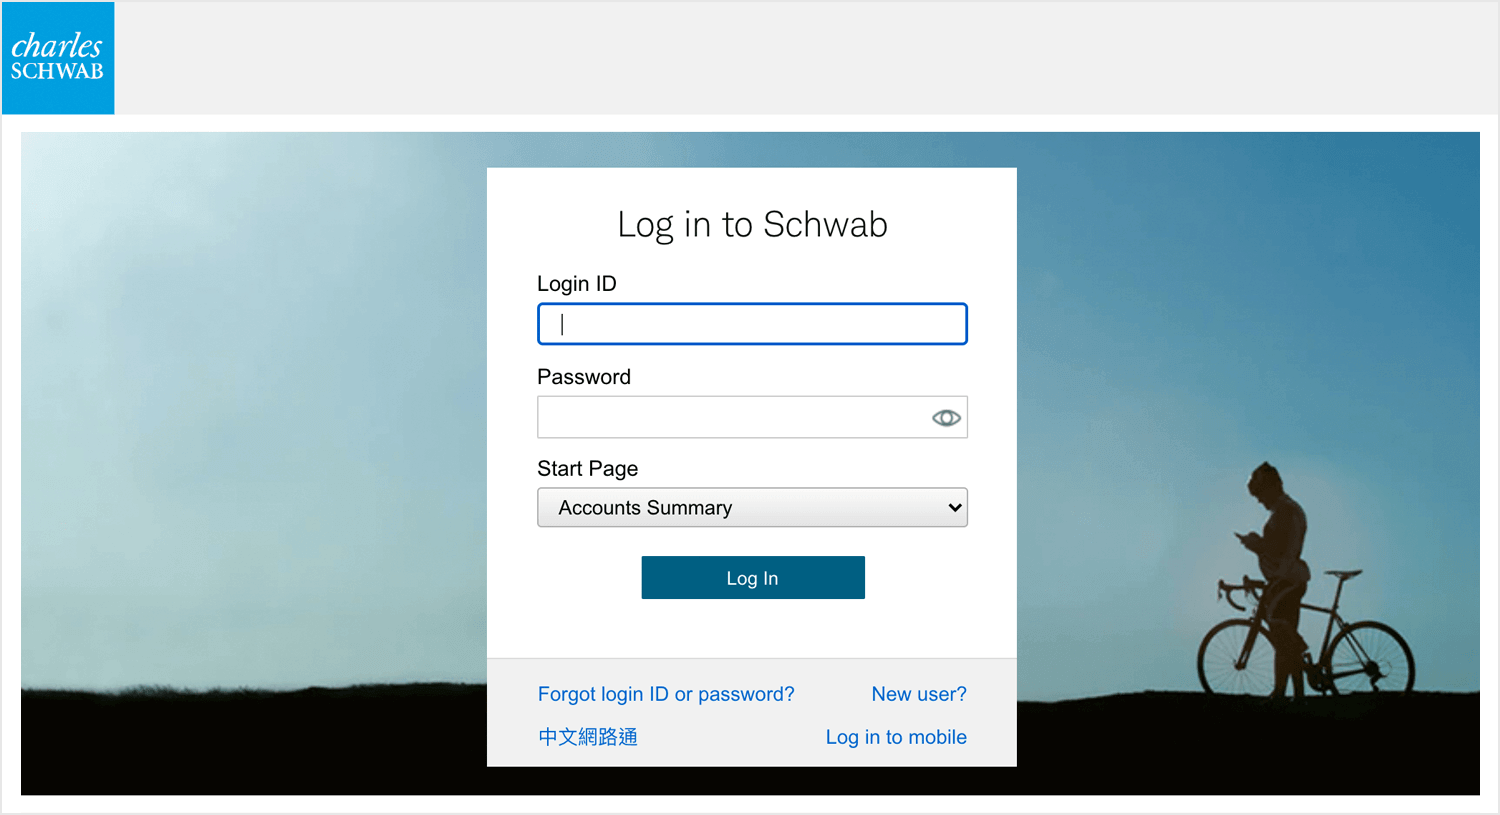button: (625, 544, 887, 615)
